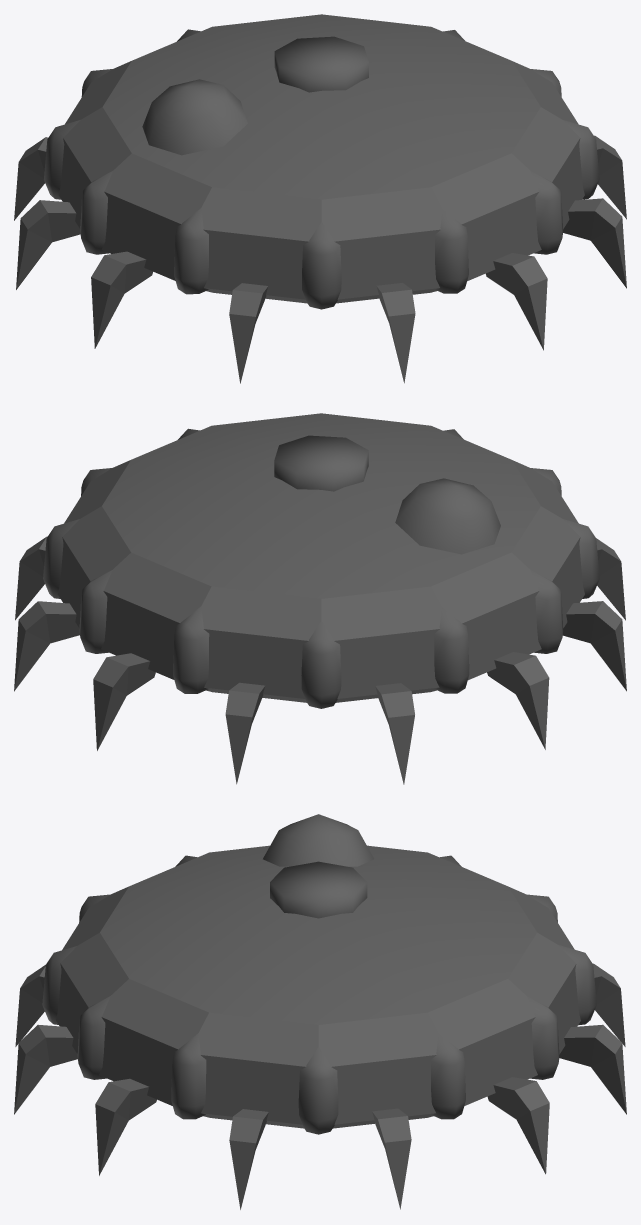
3 renders of one model, top to bottom at view 1: azimuth 30°, elevation 25°; view 2: azimuth 150°, elevation 25°; view 3: azimuth 270°, elevation 25°, orthographic.
Parts seen in each view (by area): view 1: default007; view 2: default007; view 3: default007.
Boxes of the visible parts, bbox=[...] form: default007: bbox=[14, 14, 626, 383]; default007: bbox=[14, 413, 626, 784]; default007: bbox=[14, 814, 626, 1209].
Size of the model in its own units: 14781 by 5358 by 14781.
